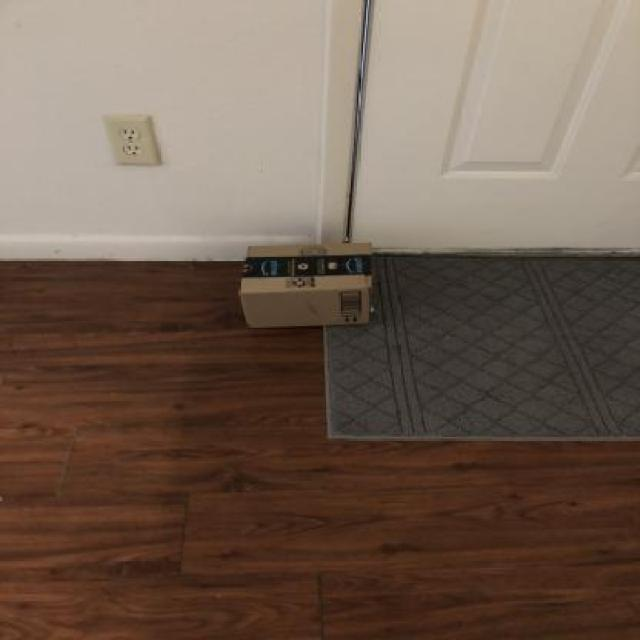obstacle: (229, 236, 388, 335)
